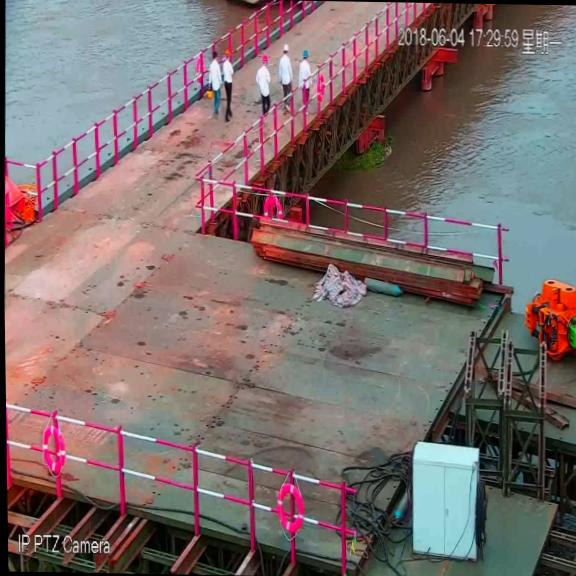no_safety_vest: (256, 64, 273, 104), (278, 56, 294, 96), (297, 61, 311, 98), (208, 60, 222, 96)
